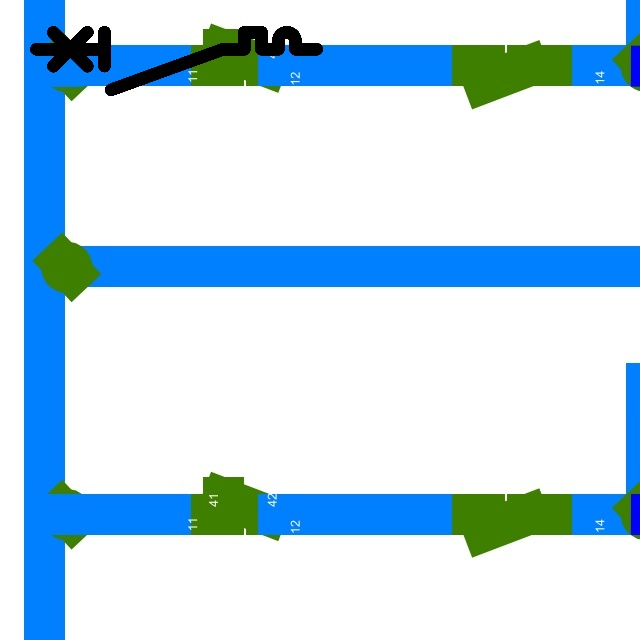interruptor_termomagnetico: (29, 25, 324, 97)
